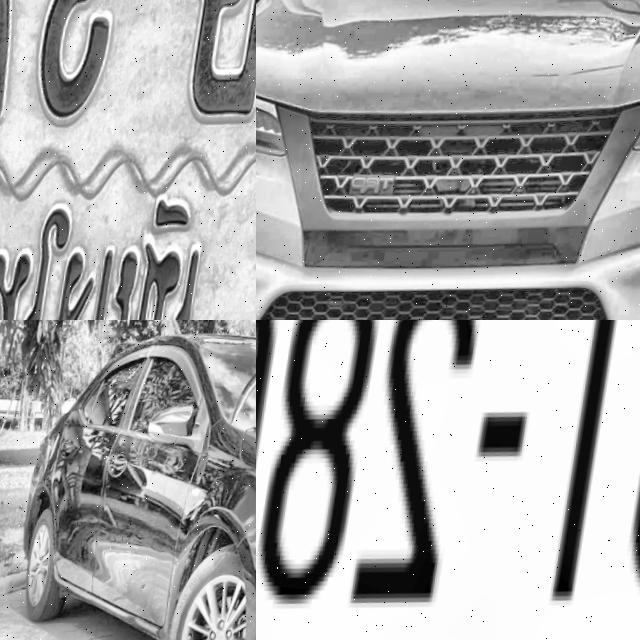license-plate: (256, 320, 640, 640), (0, 0, 256, 320)
